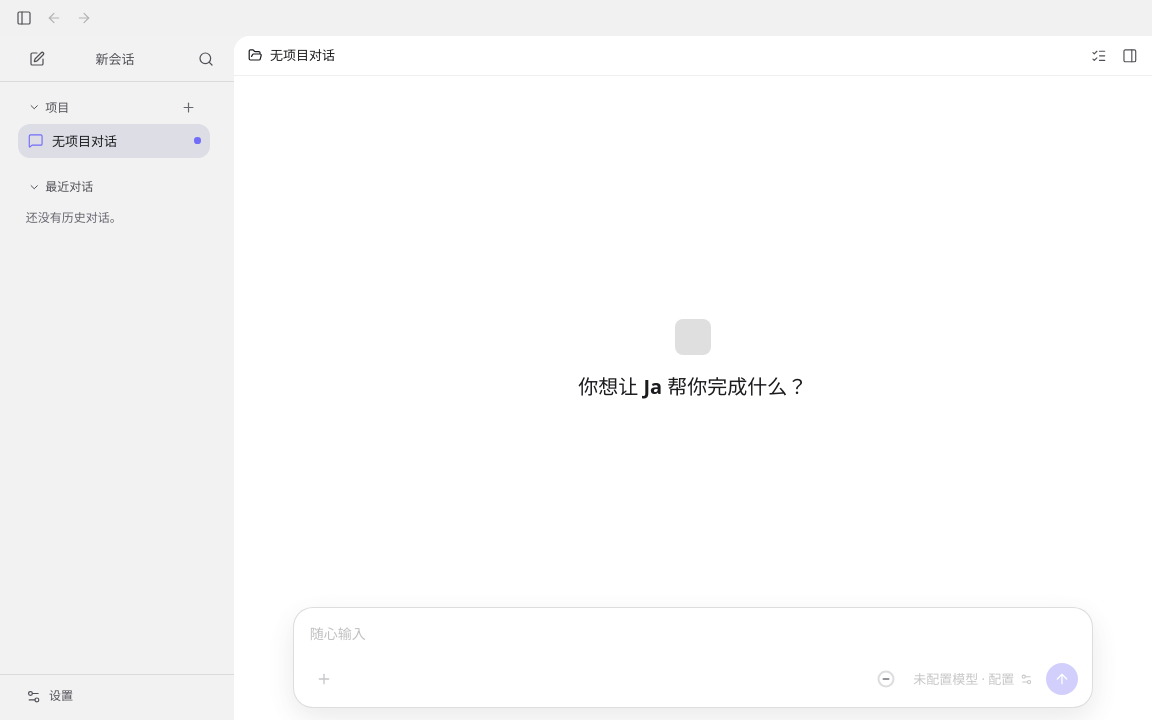
it: Ja desktop shell v1 › keeps the workspace usable when a configuration has an unreadable suffix
Click the button "设置": [120, 696] box [18,680,222,712]
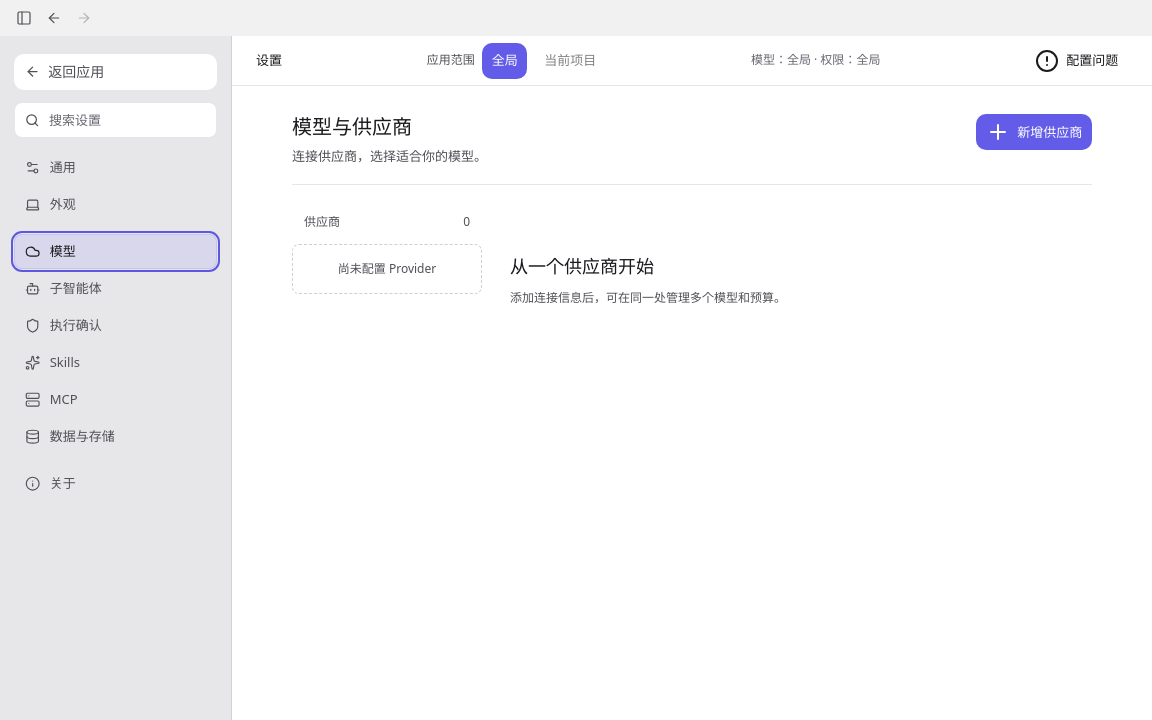
Now the element named "设置页面" is shown
Click the button "配置问题": [1077, 60] box [1025,42,1128,78]
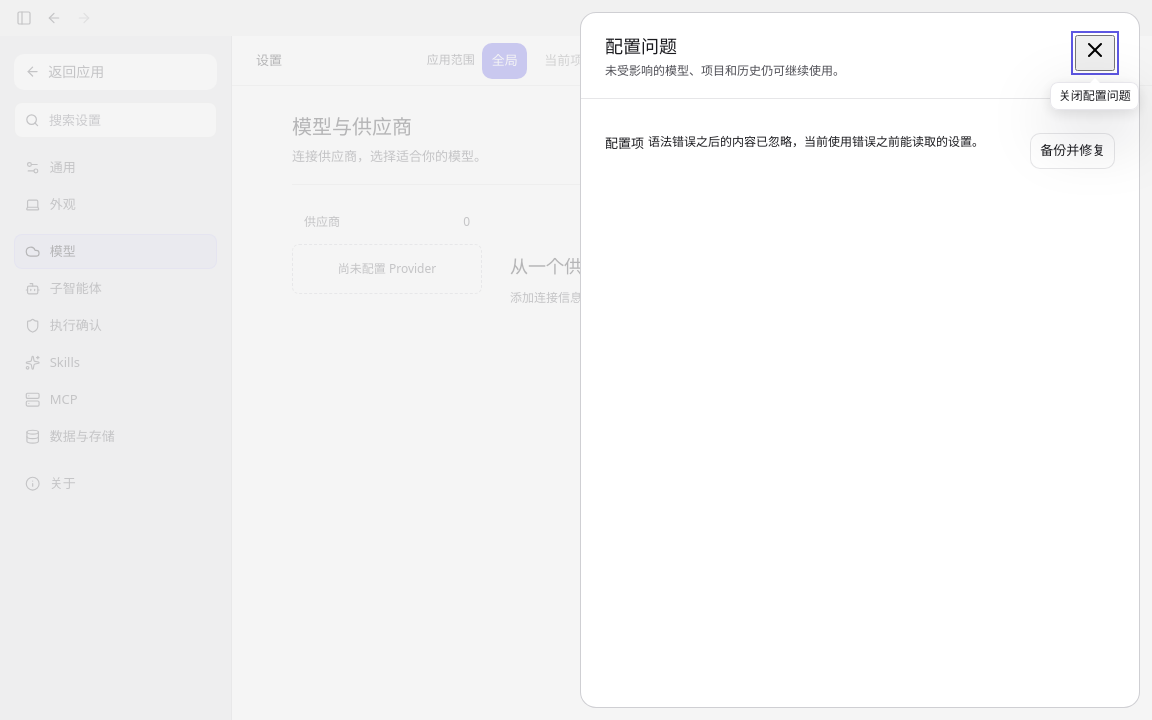
Now the text "语法错误之后的内容已忽略，当前使用错误之前能读取的设置。" is shown, box [648,133,984,156]
